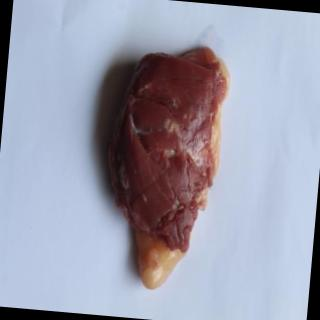Daging Sapi: (100, 40, 232, 296)
